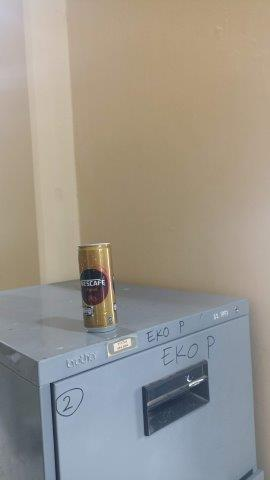kaleng: (77, 243, 120, 333)
